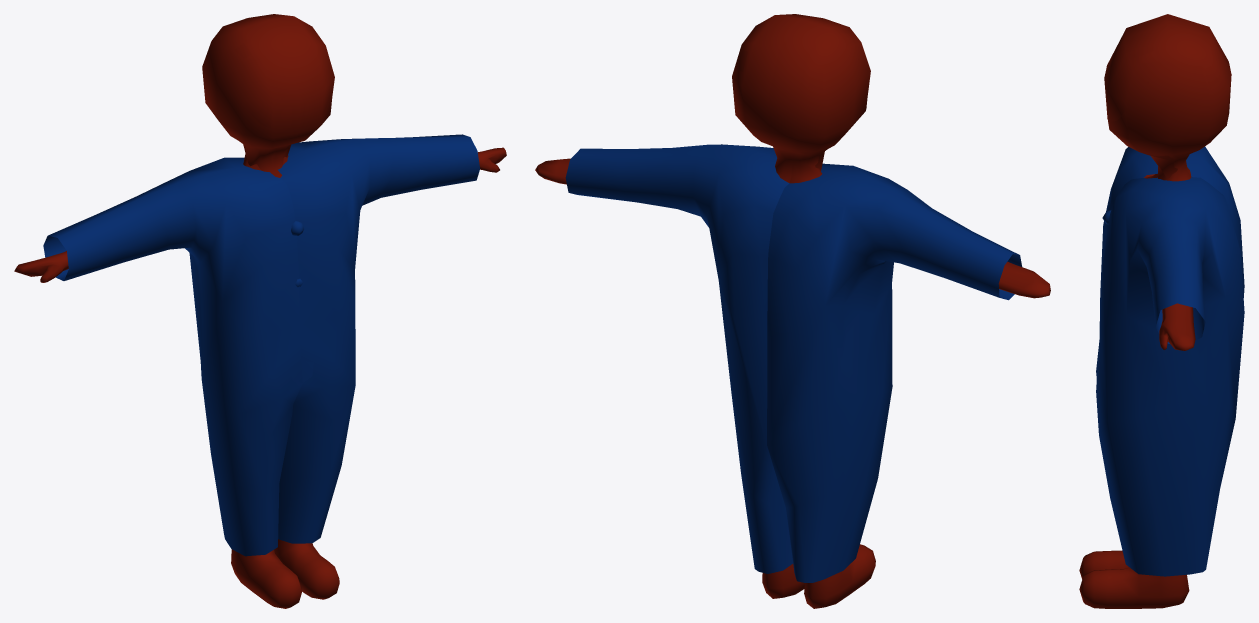
The model's file is dusman.fbx.
3 views of the same model, side by side, from view 1: azimuth 30°, elevation 25°; view 2: azimuth 150°, elevation 25°; view 3: azimuth 270°, elevation 25° (orthographic). The views are drawn at different scales.
Parts seen in each view (by area): view 1: character; view 2: character; view 3: character.
Boxes of the visible parts, x1,y1,x2,y2 form: character: (14,14,506,608); character: (535,14,1050,608); character: (1079,14,1244,608).
Bounding box in the file's own units: 1056 × 1146 × 299.
